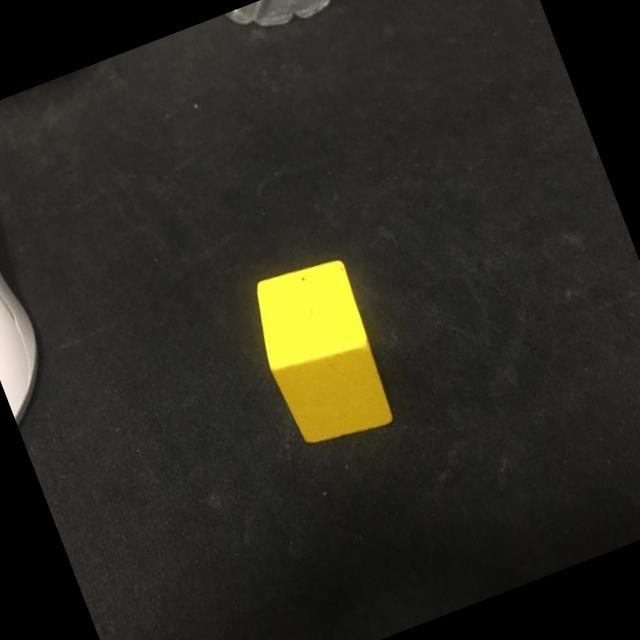yellow: (240, 250, 404, 457)
